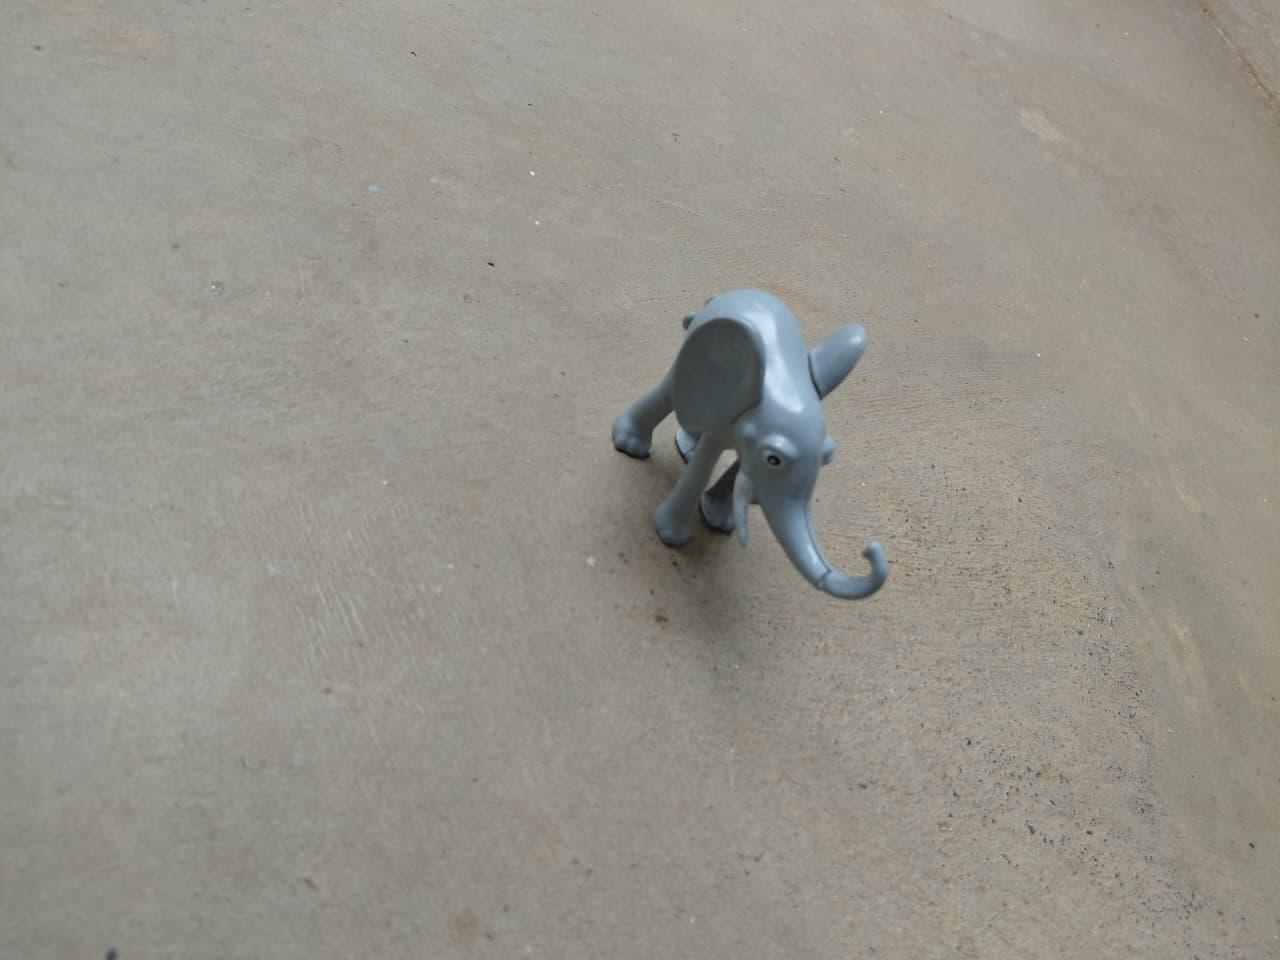elephant: (584, 256, 909, 618)
